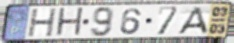6: (120, 8, 142, 36)
7: (158, 6, 180, 36)
9: (90, 6, 115, 38)
A: (176, 6, 209, 35)
H: (54, 6, 85, 38), (27, 7, 59, 38)
